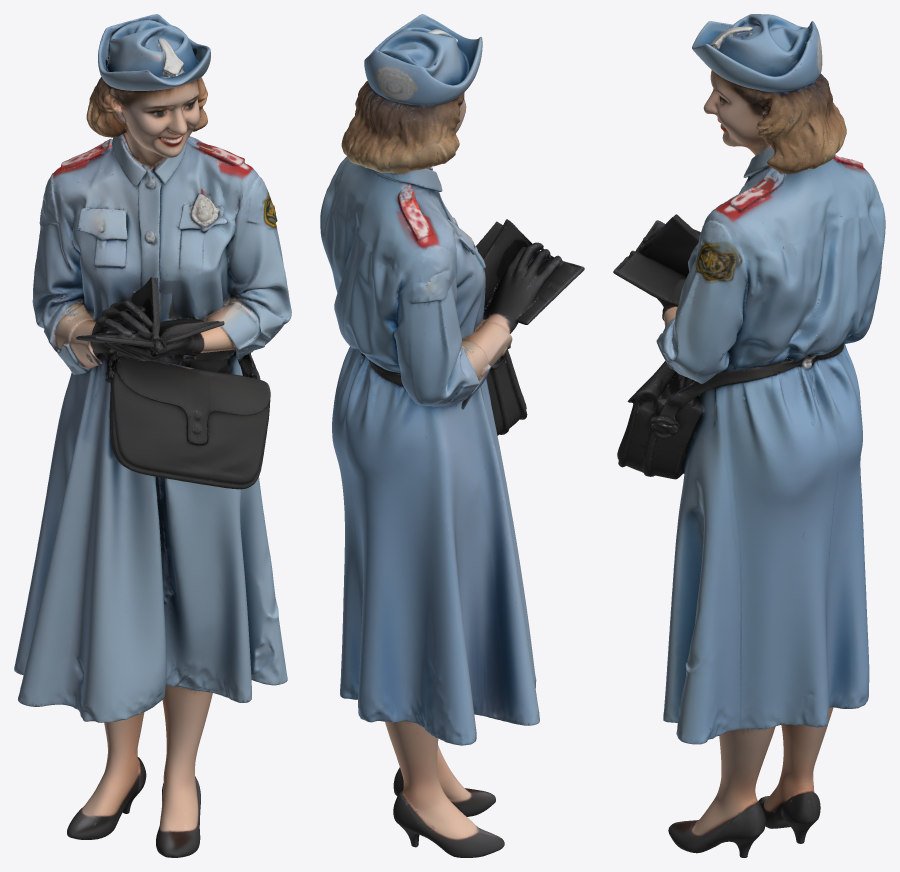
Rendered from Meshy_AI_Laura_Meyers_0129180620_texture.fbx.
3 views of the same model, side by side, from view 1: azimuth 30°, elevation 25°; view 2: azimuth 150°, elevation 25°; view 3: azimuth 270°, elevation 25° (orthographic). The views are drawn at different scales.
Parts seen in each view (by area): view 1: Mesh_0; view 2: Mesh_0; view 3: Mesh_0.
Boxes of the visible parts, x1,y1,x2,y2 form: Mesh_0: (14,14,291,857); Mesh_0: (320,14,584,857); Mesh_0: (613,14,885,857).
Size of the model in its own units: 59.81 by 200 by 59.72.
Materials: 1 (1 with a texture image).
